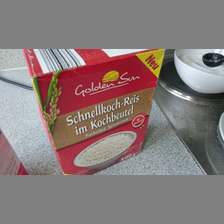rice: (22, 49, 165, 174)
